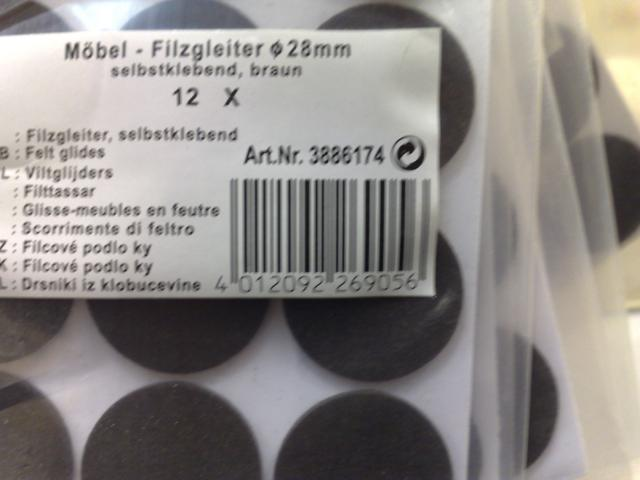Barcode: (212, 170, 438, 296)
